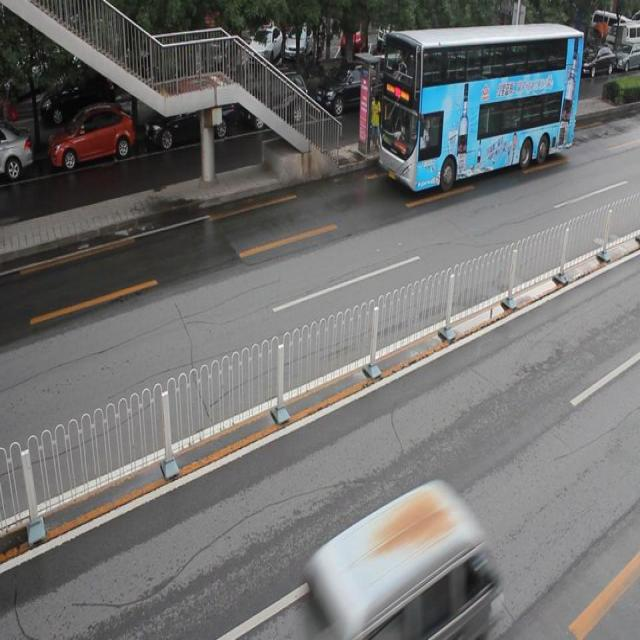car: (49, 105, 136, 172), (144, 92, 236, 150), (314, 62, 389, 122), (243, 72, 308, 130), (490, 63, 537, 118), (1, 126, 34, 181)
truck: (296, 476, 500, 640)
van: (377, 23, 582, 193)
